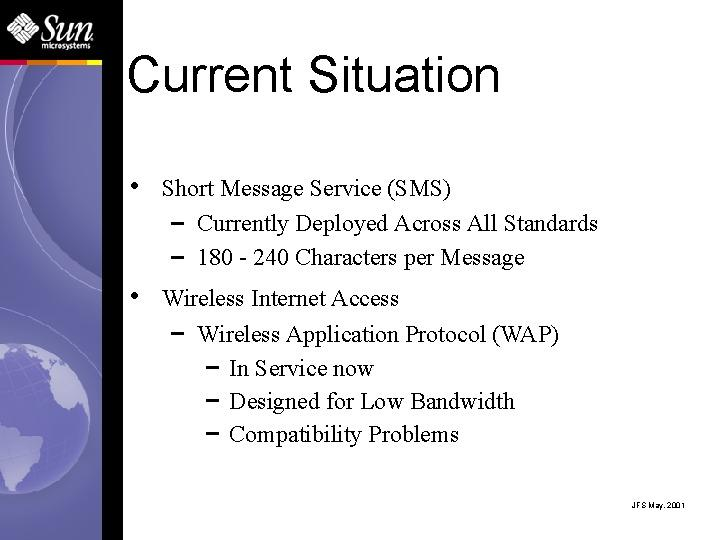paragraph: (153, 164, 629, 472)
title: (129, 42, 522, 106)
